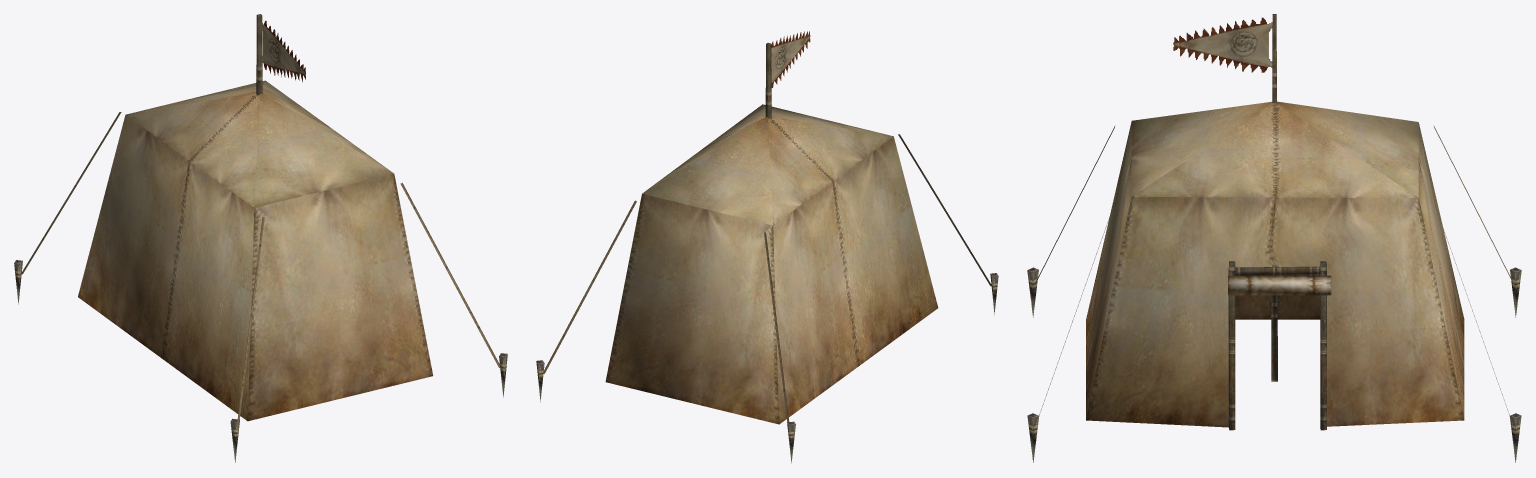
The model's file is w_cd_mc_tent.glb.
3 views of the same model, side by side, from view 1: azimuth 30°, elevation 25°; view 2: azimuth 150°, elevation 25°; view 3: azimuth 270°, elevation 25° (orthographic). The views are drawn at different scales.
Parts seen in each view (by area): view 1: W_CD_mc_tent01, W_CD_mc_tent04, W_CD_mc_tent03, W_CD_mc_tent02; view 2: W_CD_mc_tent01, W_CD_mc_tent04, W_CD_mc_tent03, W_CD_mc_tent02; view 3: W_CD_mc_tent01, W_CD_mc_tent04, W_CD_mc_tent02, W_CD_mc_tent03.
Part boxes in pixels (box(x1,y1,x2,y2)): W_CD_mc_tent01: box(78, 80, 433, 421); W_CD_mc_tent04: box(14, 20, 507, 462); W_CD_mc_tent03: box(21, 112, 499, 419); W_CD_mc_tent02: box(256, 14, 262, 95); W_CD_mc_tent01: box(605, 104, 938, 424); W_CD_mc_tent04: box(536, 31, 998, 463); W_CD_mc_tent03: box(543, 134, 991, 422); W_CD_mc_tent02: box(765, 43, 771, 118); W_CD_mc_tent01: box(1086, 101, 1464, 427); W_CD_mc_tent04: box(1027, 17, 1521, 462); W_CD_mc_tent02: box(1228, 14, 1326, 430); W_CD_mc_tent03: box(1034, 125, 1514, 415).
Size of the model in its own units: 5.45 by 6.33 by 7.56.
Materials: 3 (3 with a texture image).
